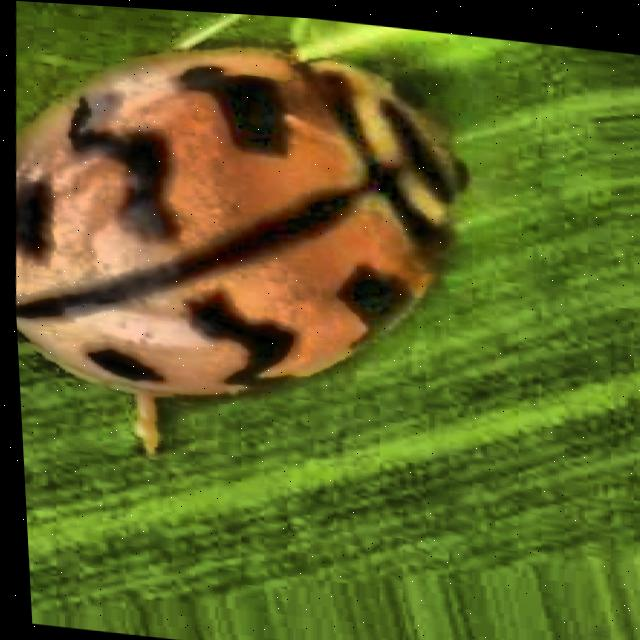Asian-Lady-beetle: (0, 0, 506, 588)
